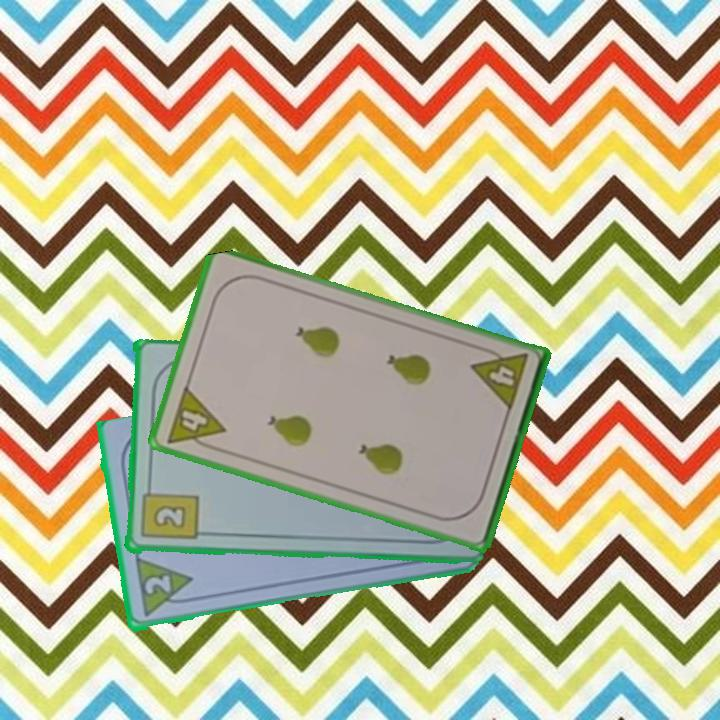2b: (137, 480, 200, 543)
2p: (131, 556, 198, 621)
4p: (162, 382, 228, 455), (468, 342, 531, 414)
